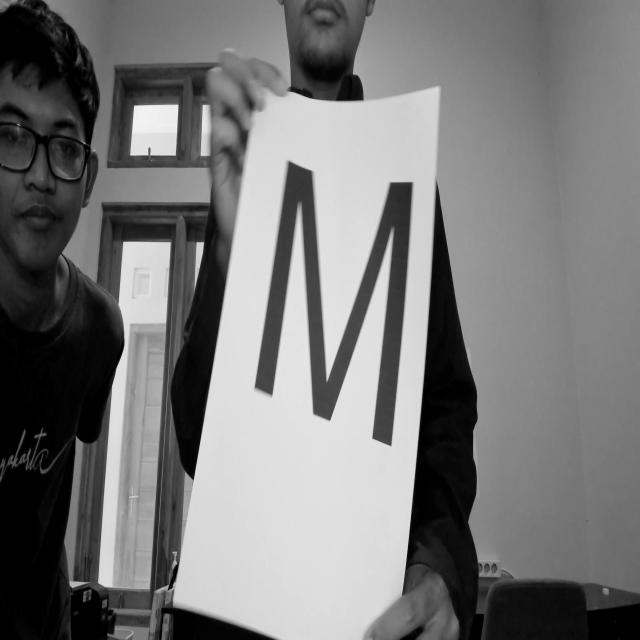m: (248, 145, 414, 471)
